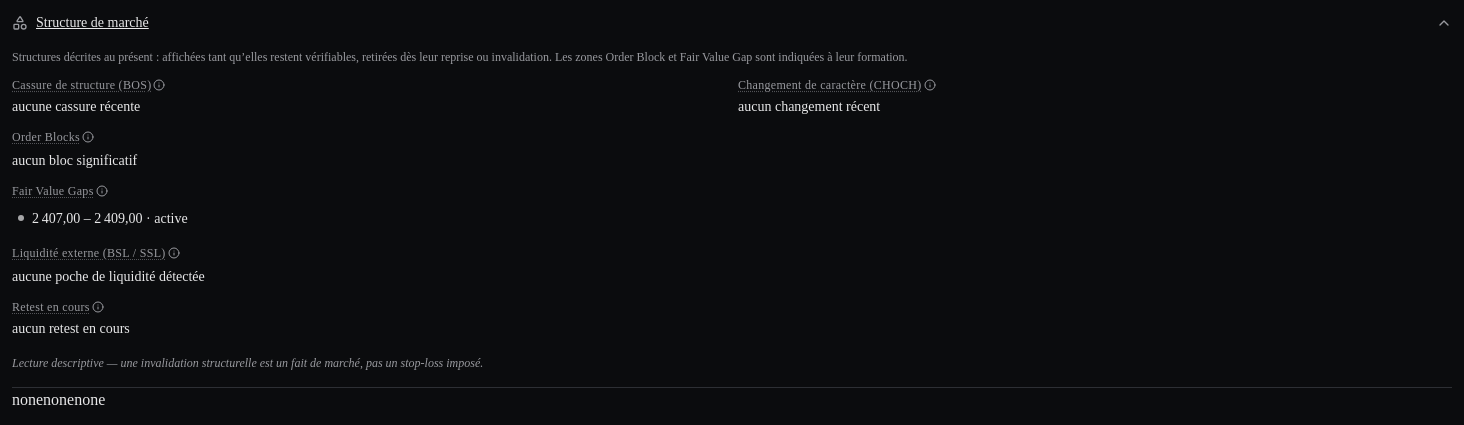
zone list → click to chart › works for FVG entries too, using the real FVG id
This screenshot has width=1464, height=425.
Click the button "2 407,00 – 2 409,00 · active" at (110,218), box [12,205,1452,233]
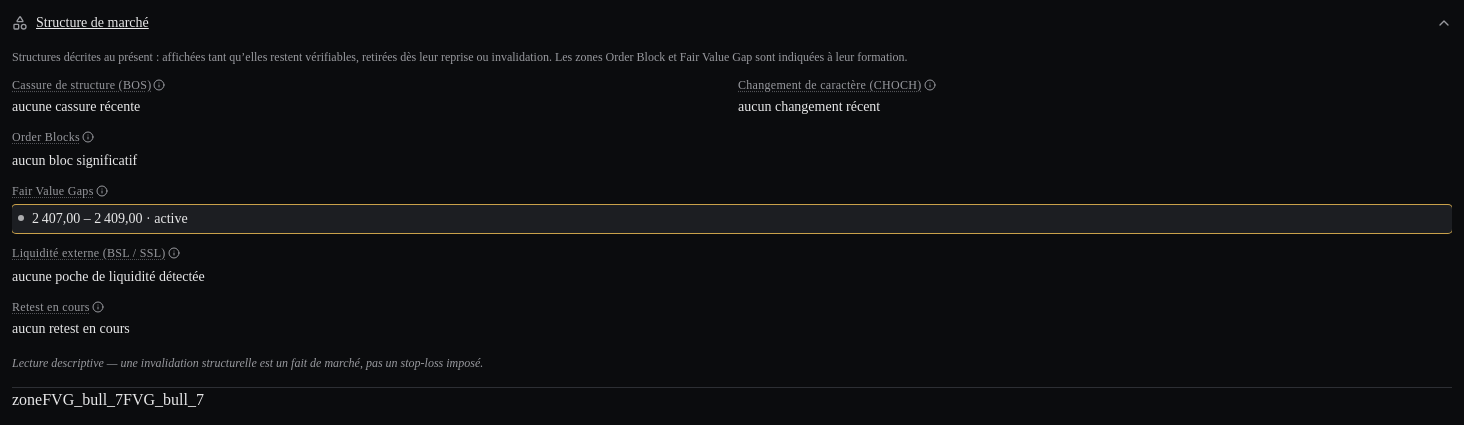
Result: the text with test id "sel-id" reads "FVG_bull_7" at [42,391,123,408]
Result: the text with test id "highlight" reads "FVG_bull_7" at [123,391,204,408]
